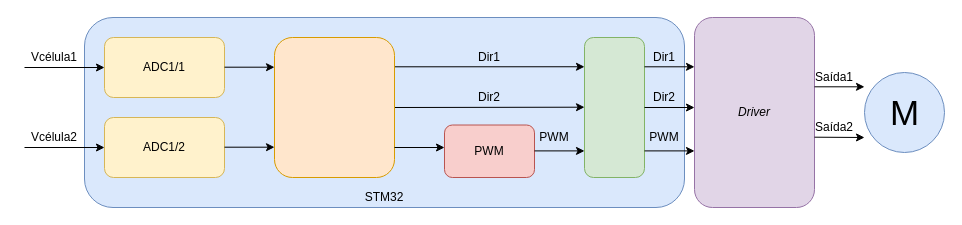
The diagram is 962 pixels wide and 225 high, and some of its shapes have lost their labels. The centre of each missing label's shape, as x and y in pixels:
"GPIO" belongs at pixel 614 107.
"Lê e processa os valores" belongs at pixel 334 107.
